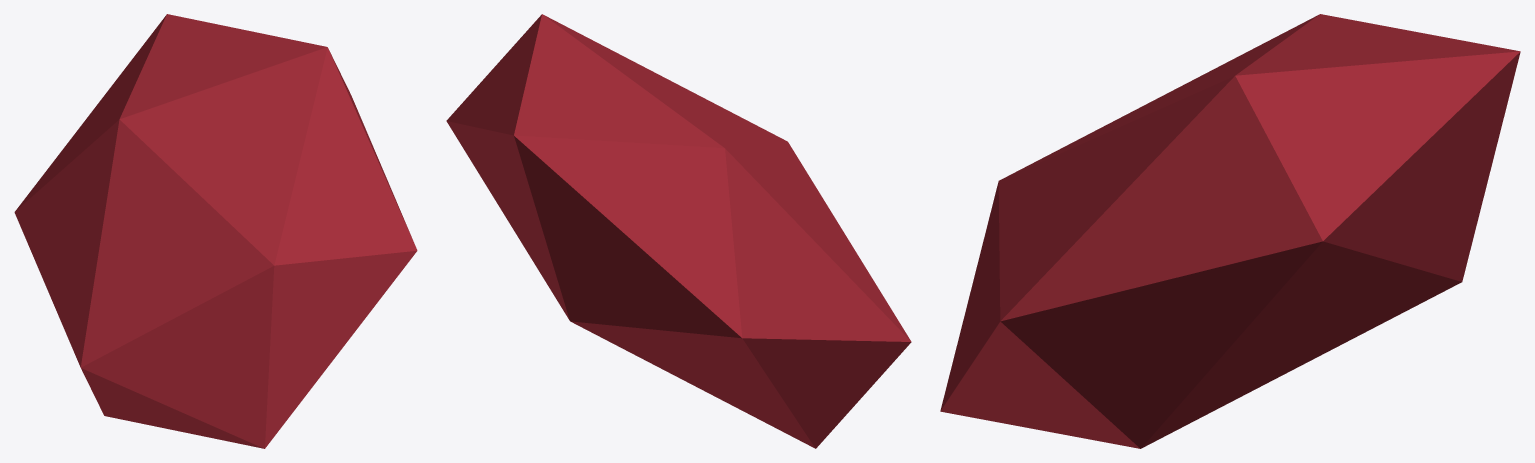
File: gore_08.glb
The picture shows the model from 3 angles, left to right: view 1: azimuth 30°, elevation 25°; view 2: azimuth 150°, elevation 25°; view 3: azimuth 270°, elevation 25°; orthographic projection. The views are drawn at different scales.
Visible parts, largest first — view 1: CHUNK; view 2: CHUNK; view 3: CHUNK.
Boxes of the visible parts, x1=… form: CHUNK: x1=14, y1=14, x2=417, y2=448; CHUNK: x1=446, y1=14, x2=911, y2=448; CHUNK: x1=940, y1=14, x2=1520, y2=448.
Size of the model in its own units: 0.0821 by 0.074 by 0.0806.
